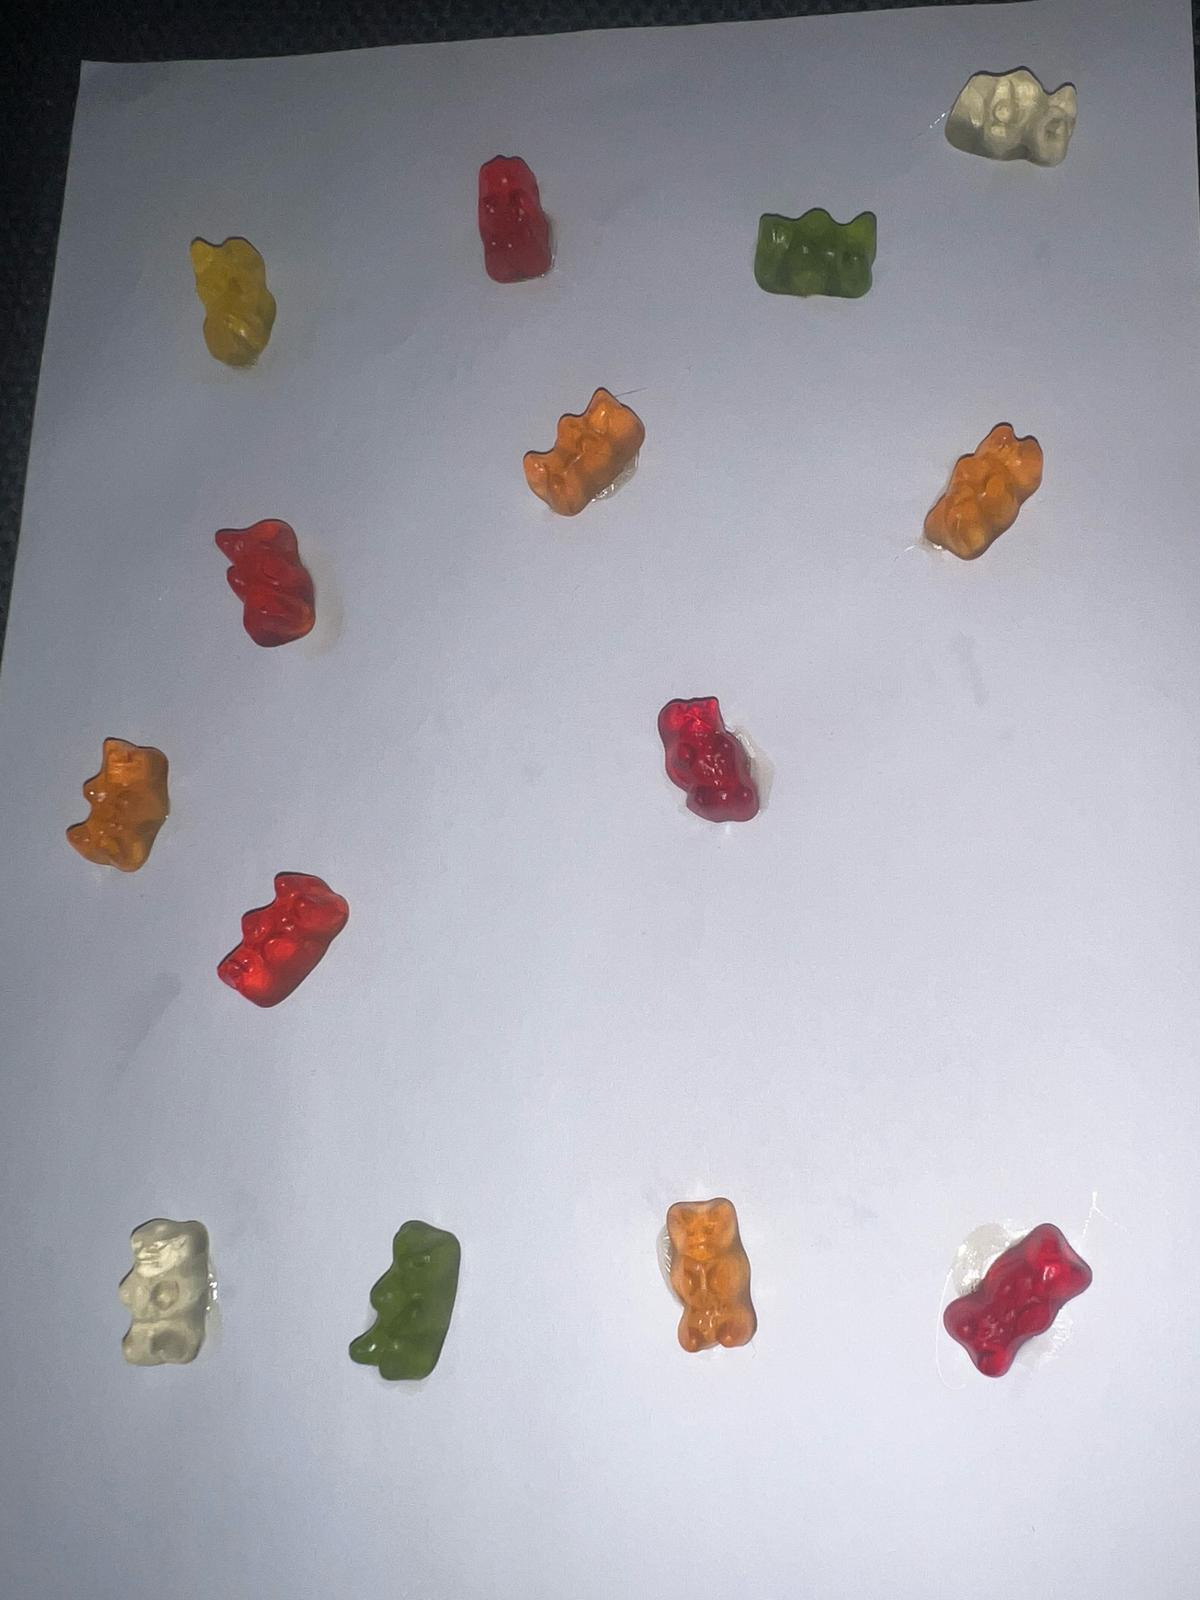gummybear: (937, 1217, 1099, 1381), (213, 866, 354, 1023), (509, 380, 655, 524), (915, 414, 1055, 564), (102, 1211, 226, 1373), (348, 1213, 463, 1386), (61, 724, 179, 879), (171, 231, 296, 375), (661, 1194, 768, 1358), (937, 60, 1092, 171), (652, 693, 773, 833), (209, 514, 325, 651), (753, 203, 886, 306), (466, 150, 566, 281)
